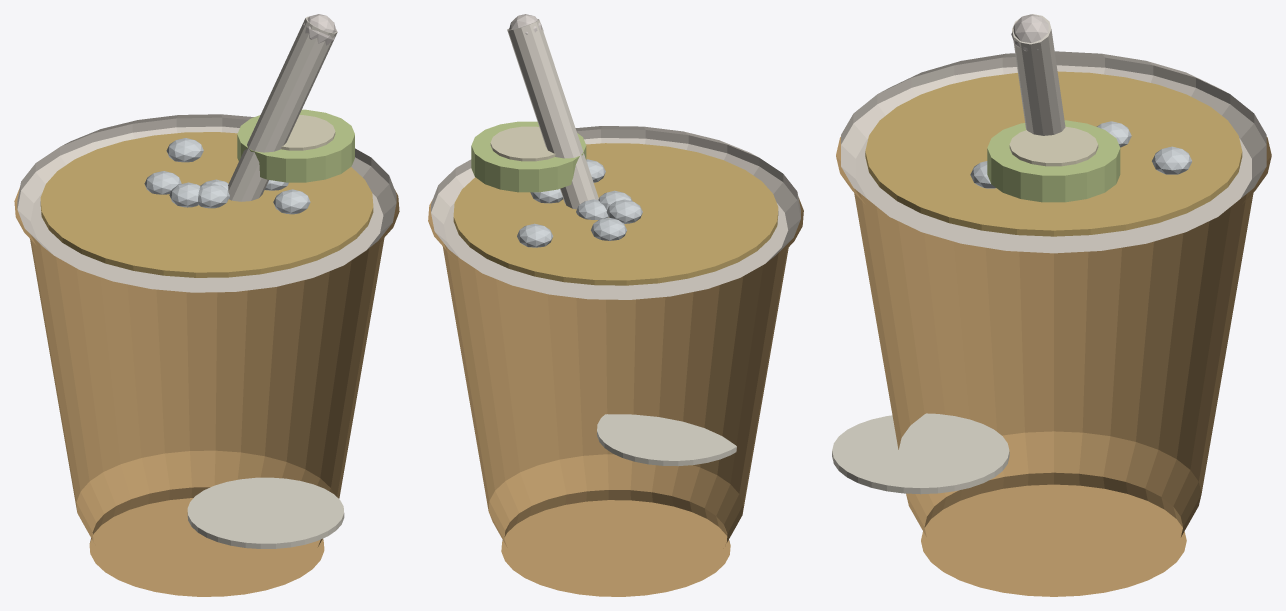
Rendered from tra_chanh.glb.
3 views of the same model, side by side, from view 1: azimuth 30°, elevation 25°; view 2: azimuth 150°, elevation 25°; view 3: azimuth 270°, elevation 25° (orthographic). The views are drawn at different scales.
Parts seen in each view (by area): view 1: obj_0000, obj_0001, obj_0002, obj_0003, obj_0004, obj_0013, obj_0014, obj_0007, obj_0011, obj_0010, obj_0009, obj_0005 (+1 smaller); view 2: obj_0000, obj_0001, obj_0002, obj_0004, obj_0003, obj_0013, obj_0014, obj_0011, obj_0009, obj_0012, obj_0006; view 3: obj_0000, obj_0001, obj_0002, obj_0003, obj_0013, obj_0004, obj_0014, obj_0011, obj_0005.
Part boxes in pixels (x1,y1,x2,y2): obj_0000: [14, 187, 399, 596]; obj_0001: [40, 132, 373, 277]; obj_0002: [17, 114, 396, 292]; obj_0003: [187, 477, 344, 548]; obj_0004: [228, 16, 337, 201]; obj_0013: [237, 109, 354, 182]; obj_0014: [281, 115, 335, 150]; obj_0007: [273, 189, 310, 214]; obj_0011: [166, 138, 203, 162]; obj_0010: [198, 183, 229, 208]; obj_0009: [144, 171, 181, 194]; obj_0005: [302, 14, 336, 45]; obj_0000: [428, 197, 803, 596]; obj_0001: [453, 143, 778, 285]; obj_0002: [431, 126, 800, 299]; obj_0004: [507, 19, 598, 209]; obj_0003: [597, 414, 736, 466]; obj_0013: [471, 121, 586, 192]; obj_0014: [490, 126, 555, 161]; obj_0011: [517, 223, 553, 247]; obj_0009: [591, 217, 626, 240]; obj_0012: [606, 199, 642, 223]; obj_0006: [576, 199, 608, 219]; obj_0000: [836, 137, 1271, 596]; obj_0001: [865, 71, 1242, 236]; obj_0002: [841, 51, 1266, 253]; obj_0003: [832, 413, 1009, 494]; obj_0013: [987, 120, 1120, 202]; obj_0004: [1012, 14, 1065, 135]; obj_0014: [1009, 126, 1098, 166]; obj_0011: [1152, 146, 1192, 174]; obj_0005: [1011, 14, 1048, 51].
Size of the model in its own units: 1.18 by 1.73 by 1.19.
